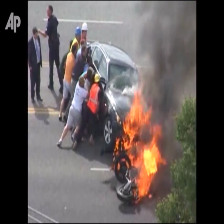fire_h: (122, 81, 165, 198)
fire_l: (118, 158, 130, 171), (112, 137, 120, 155)
